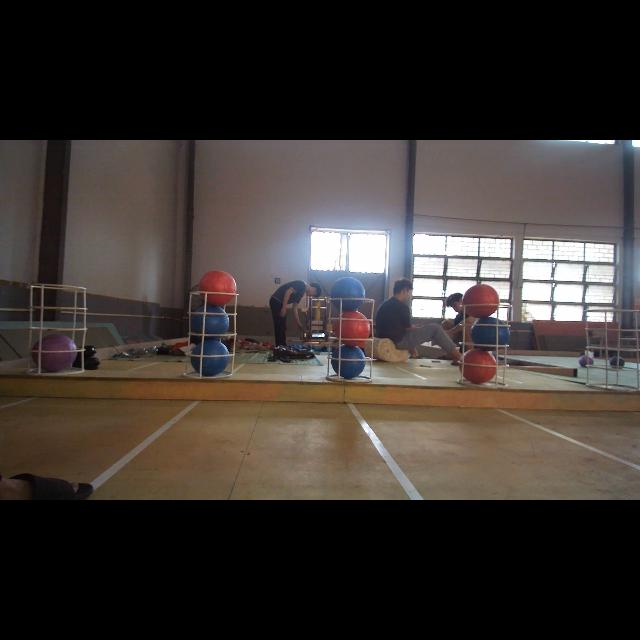B: (190, 340, 230, 376), (470, 317, 510, 351), (330, 344, 366, 380), (191, 306, 229, 340), (330, 277, 366, 311)
R: (198, 270, 236, 306), (334, 311, 370, 347), (462, 284, 500, 318), (459, 350, 497, 384)
